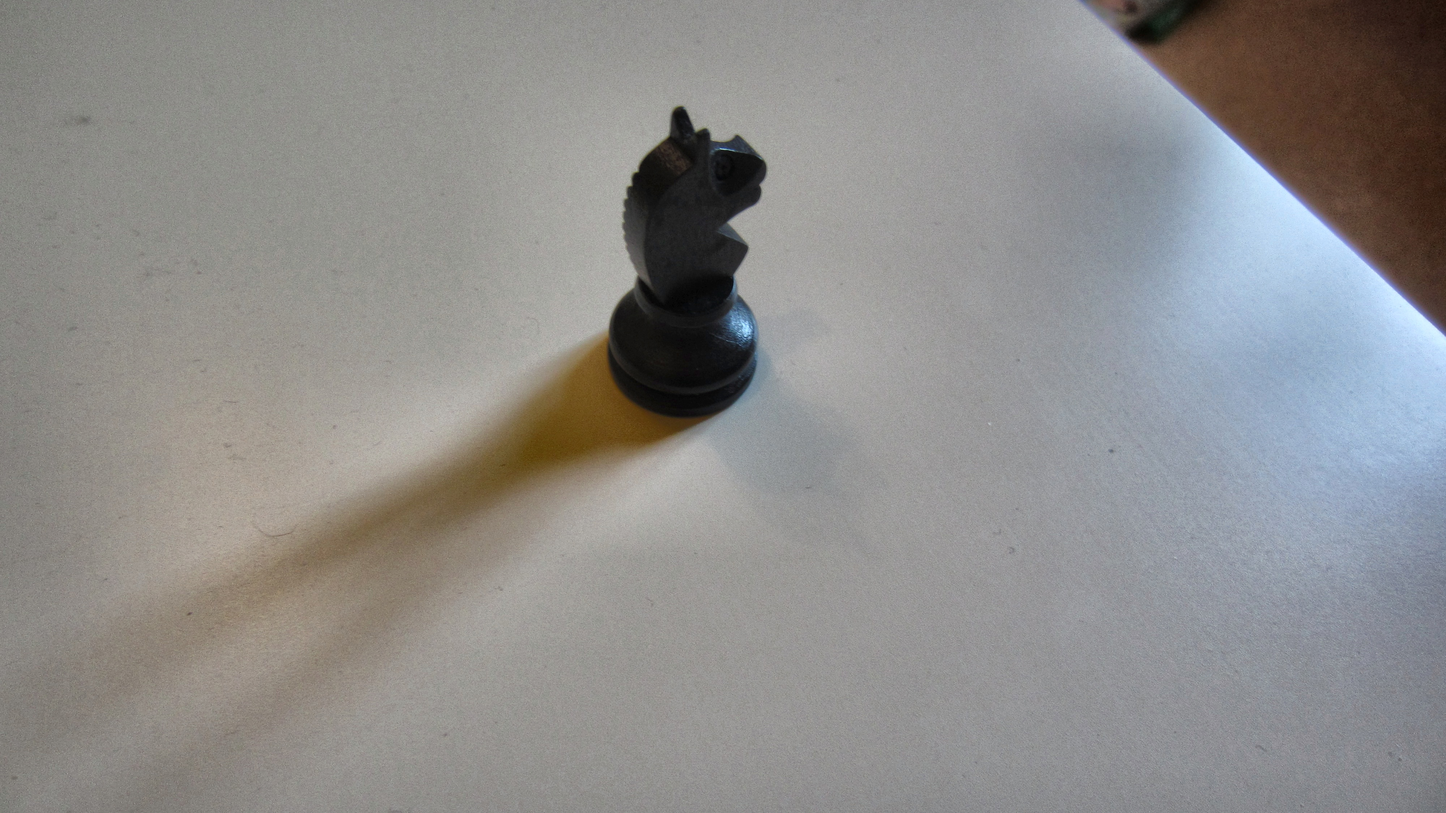black-knight: (598, 101, 773, 421)
